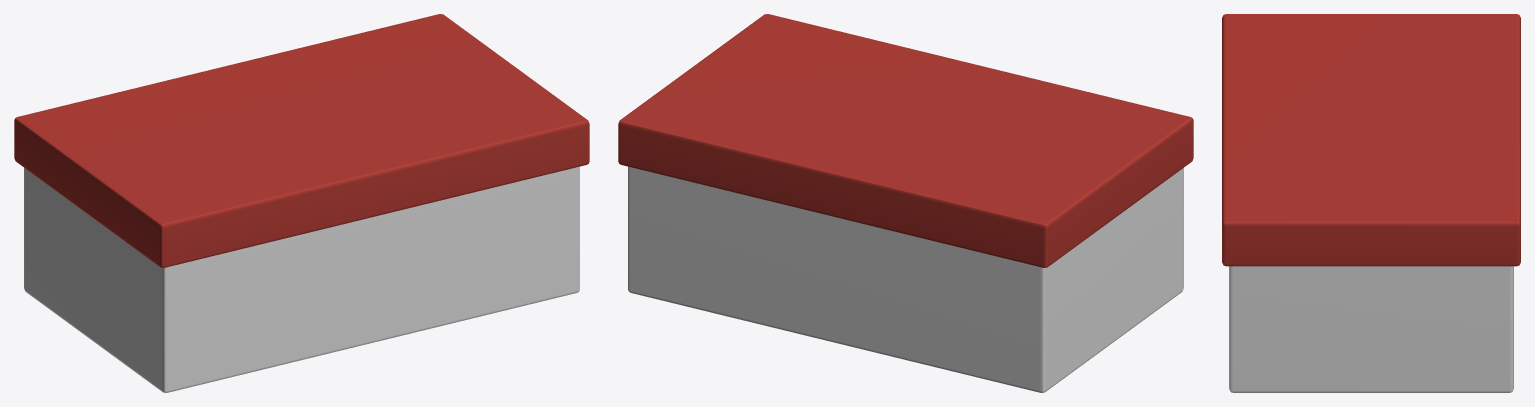
File: SM_Shoebox.fbx
3 views of the same model, side by side, from view 1: azimuth 30°, elevation 25°; view 2: azimuth 150°, elevation 25°; view 3: azimuth 270°, elevation 25° (orthographic).
Visible parts, largest first — view 1: SM_Shoebox_1; view 2: SM_Shoebox_1; view 3: SM_Shoebox_1.
Part boxes in pixels (x1,y1,x2,y2): SM_Shoebox_1: (14, 14, 589, 392); SM_Shoebox_1: (618, 14, 1193, 392); SM_Shoebox_1: (1222, 14, 1520, 392).
Bounding box in the file's own units: 35 × 13.55 × 21.
